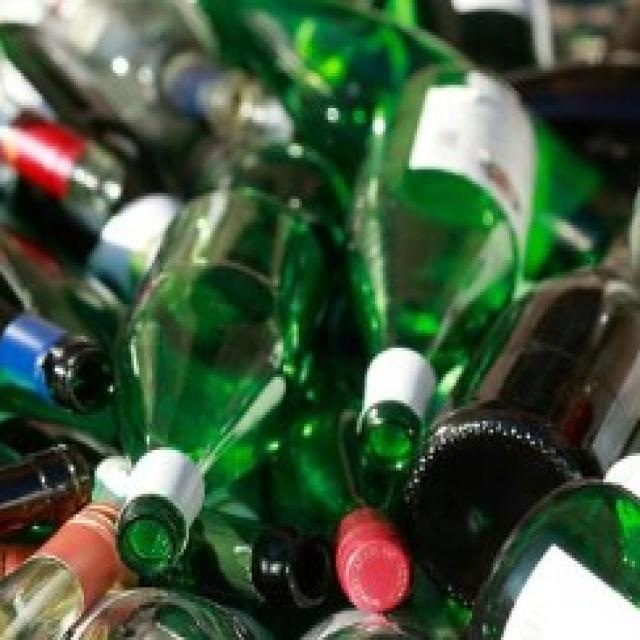electronic: (116, 118, 354, 579), (341, 58, 543, 488)
